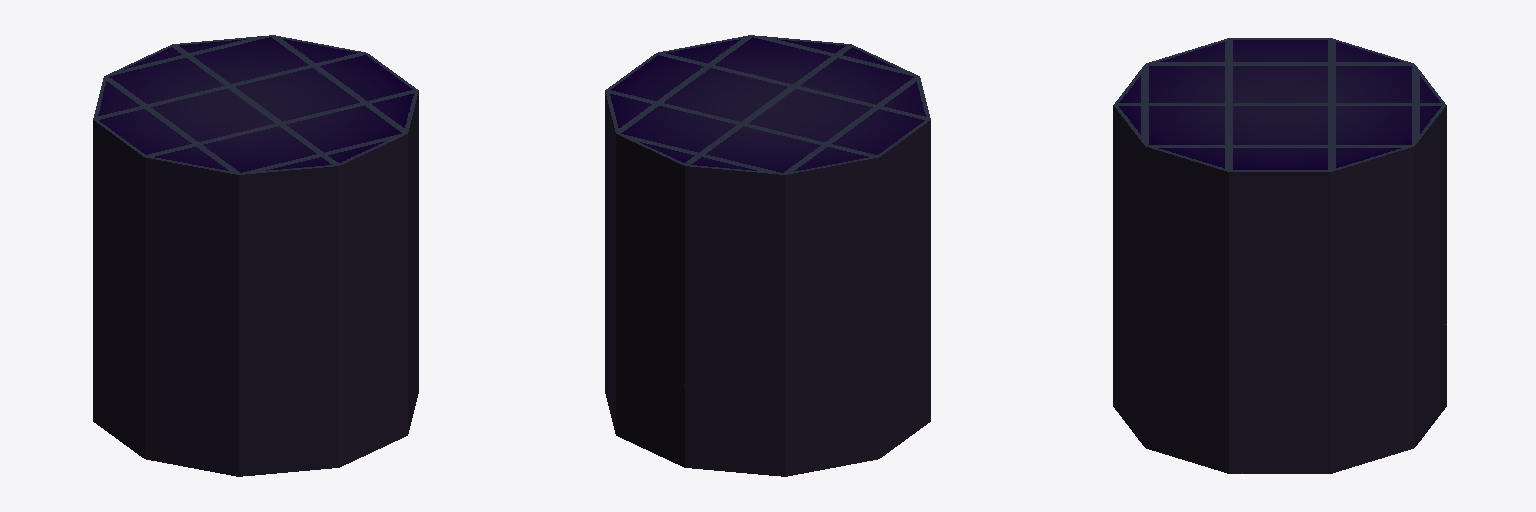
The picture shows the model from 3 angles: view 1: azimuth 30°, elevation 25°; view 2: azimuth 150°, elevation 25°; view 3: azimuth 270°, elevation 25°; orthographic projection.
Parts seen in each view (by area): view 1: stage; view 2: stage; view 3: stage.
Part boxes in pixels (x1,y1,x2,y2): stage: (93,35,418,476); stage: (605,35,930,476); stage: (1113,38,1446,473).
Size of the model in its own units: 19.02 by 20 by 20.
Materials: 1 (1 with a texture image).